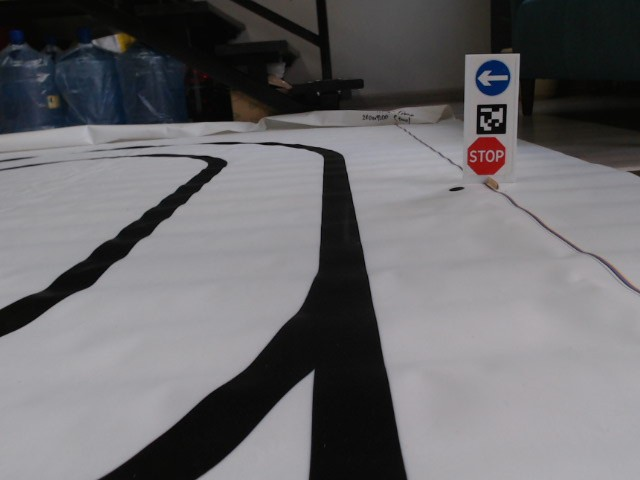Stop: (467, 135, 507, 176)
